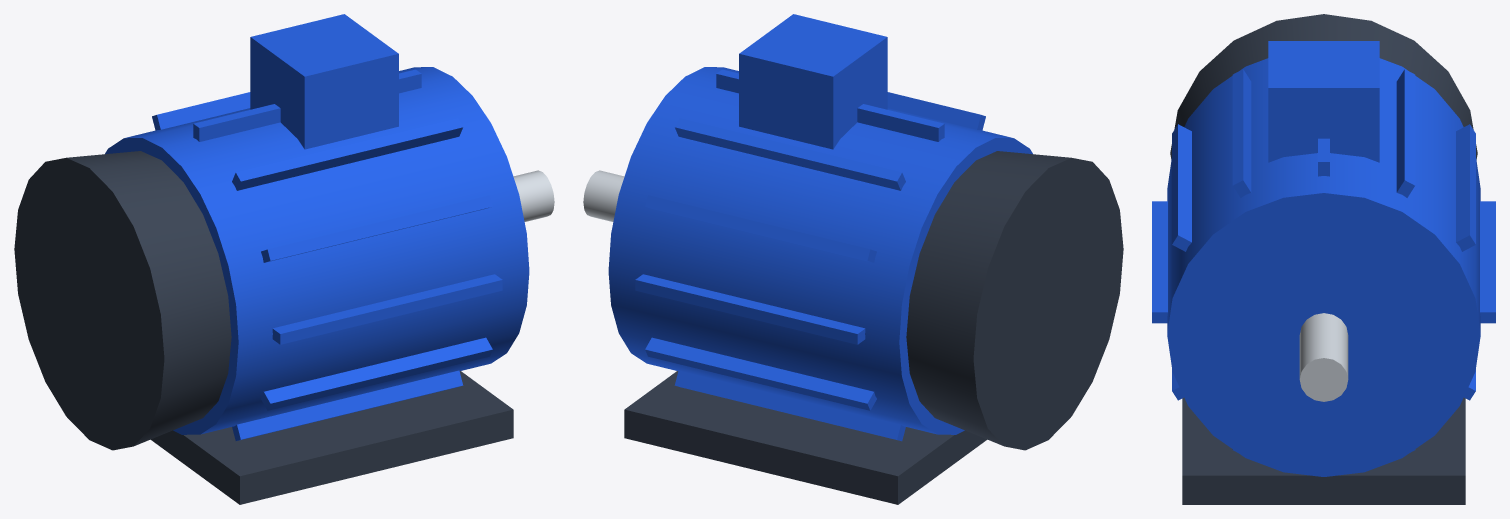
3 views of the same model, side by side, from view 1: azimuth 30°, elevation 25°; view 2: azimuth 150°, elevation 25°; view 3: azimuth 270°, elevation 25° (orthographic). The views are drawn at different scales.
Visible parts, largest first — view 1: cad-device-motor-load; view 2: cad-device-motor-load; view 3: cad-device-motor-load.
Boxes of the visible parts, x1,y1,x2,y2 form: cad-device-motor-load: (14,14,554,504); cad-device-motor-load: (583,14,1123,504); cad-device-motor-load: (1152,14,1495,504).
Size of the model in its own units: 0.53 by 0.415 by 0.34.
